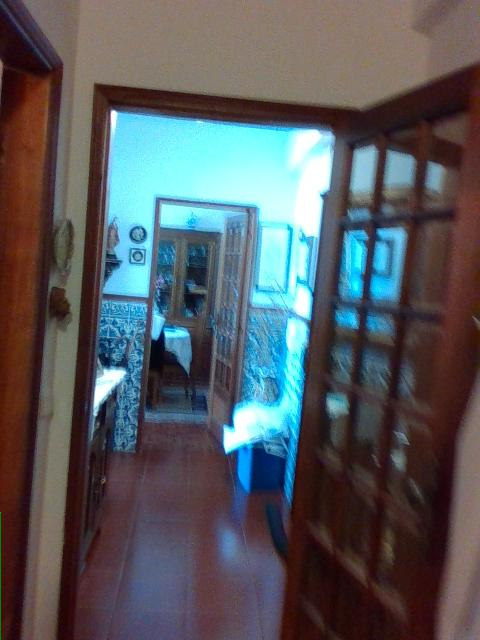door: (282, 64, 479, 636), (209, 214, 249, 447)
